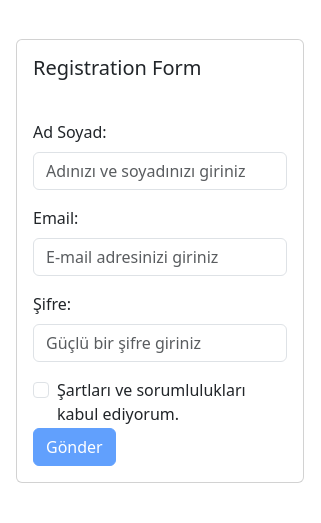
Test: Register Page › Error messages › password inputs throw errors for 1234
Type "1234" into the password field with test id "password-input" at {"x": 160, "y": 343}, box [33,324,287,362]
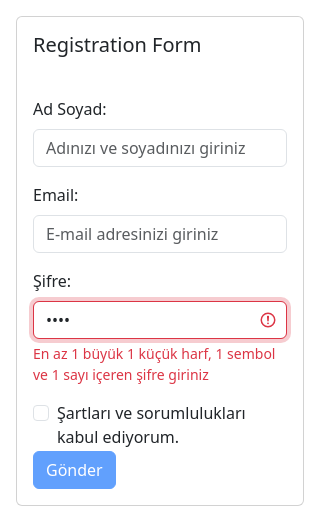
Now the text "En az 1 büyük 1 küçük harf, 1 sembol ve 1 sayı içeren şifre giriniz" is shown, box [33,343,287,385]
